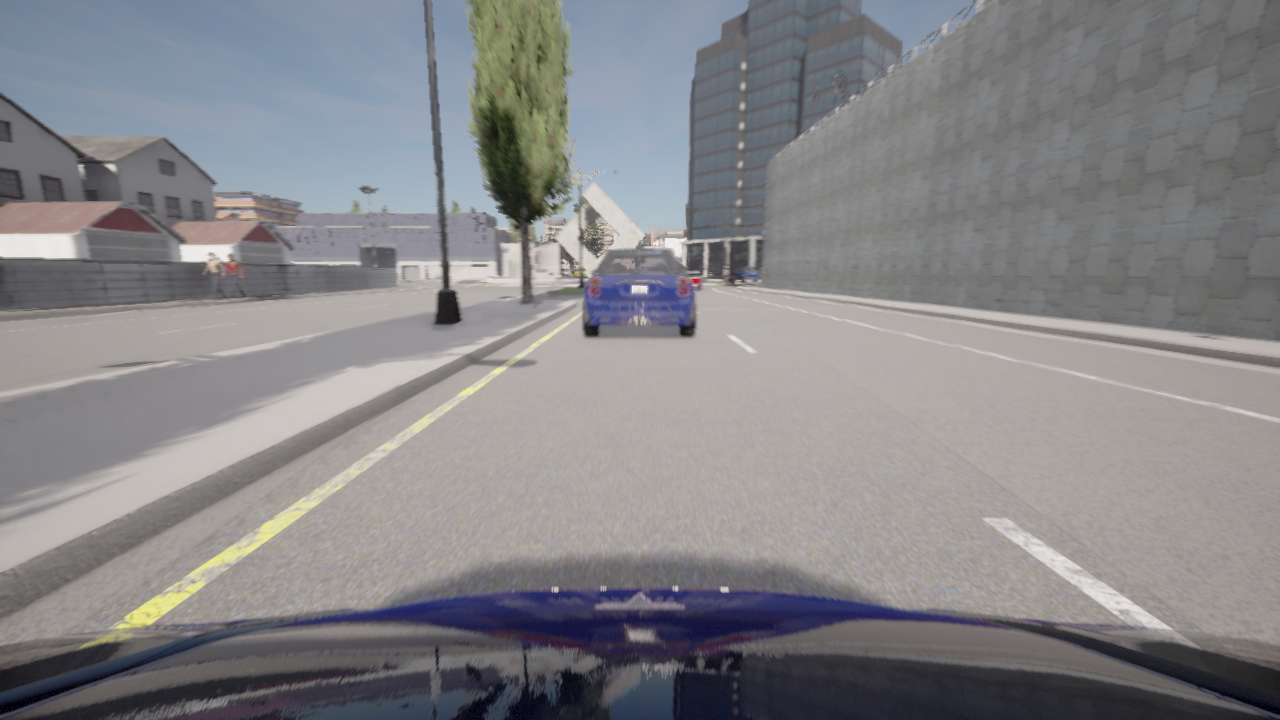cyclist: (0, 588, 1279, 719), (583, 242, 695, 336), (734, 267, 758, 282), (687, 271, 702, 290), (725, 274, 736, 284), (679, 263, 688, 271), (760, 275, 761, 283)
pedestrian: (223, 255, 246, 298), (204, 253, 225, 299)
